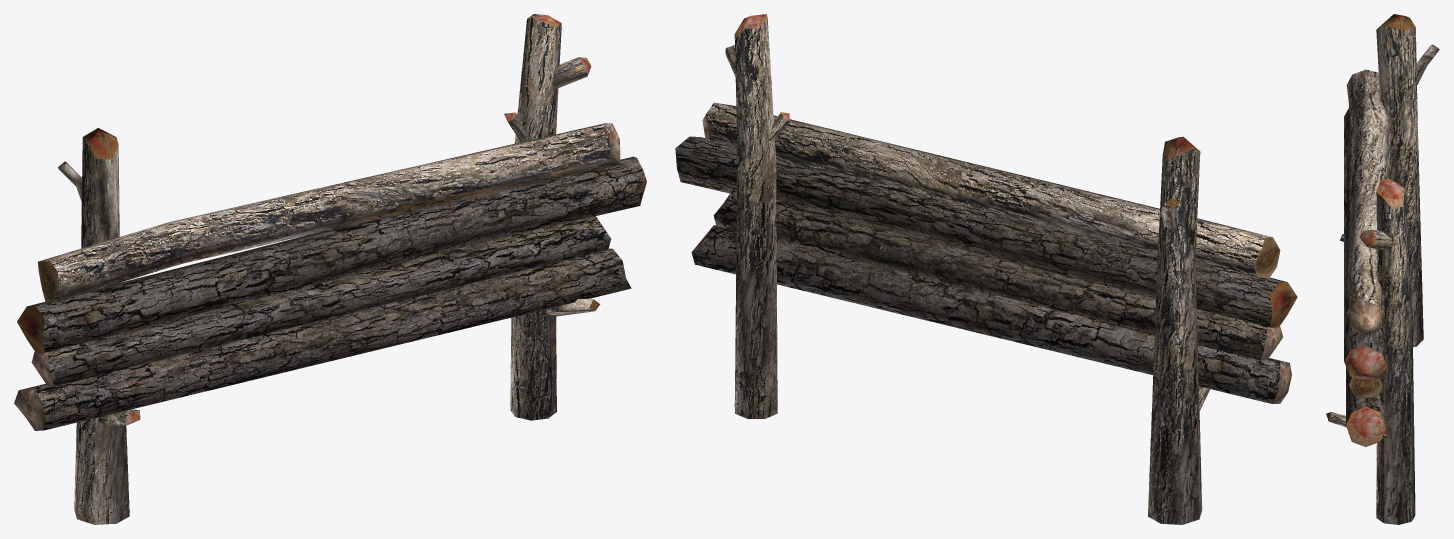
The model's file is Prop_Mzl01.glb.
The picture shows the model from 3 angles, left to right: view 1: azimuth 30°, elevation 25°; view 2: azimuth 150°, elevation 25°; view 3: azimuth 270°, elevation 25°; orthographic projection. The views are drawn at different scales.
Visible parts, largest first — view 1: xiutz_mzl_01; view 2: xiutz_mzl_01; view 3: xiutz_mzl_01.
Boxes of the visible parts, x1,y1,x2,y2 form: xiutz_mzl_01: [14, 14, 646, 524]; xiutz_mzl_01: [675, 14, 1297, 524]; xiutz_mzl_01: [1326, 14, 1439, 524].
Bounding box in the file's own units: 10.02 × 6.13 × 1.88.
Materials: 1 (1 with a texture image).
